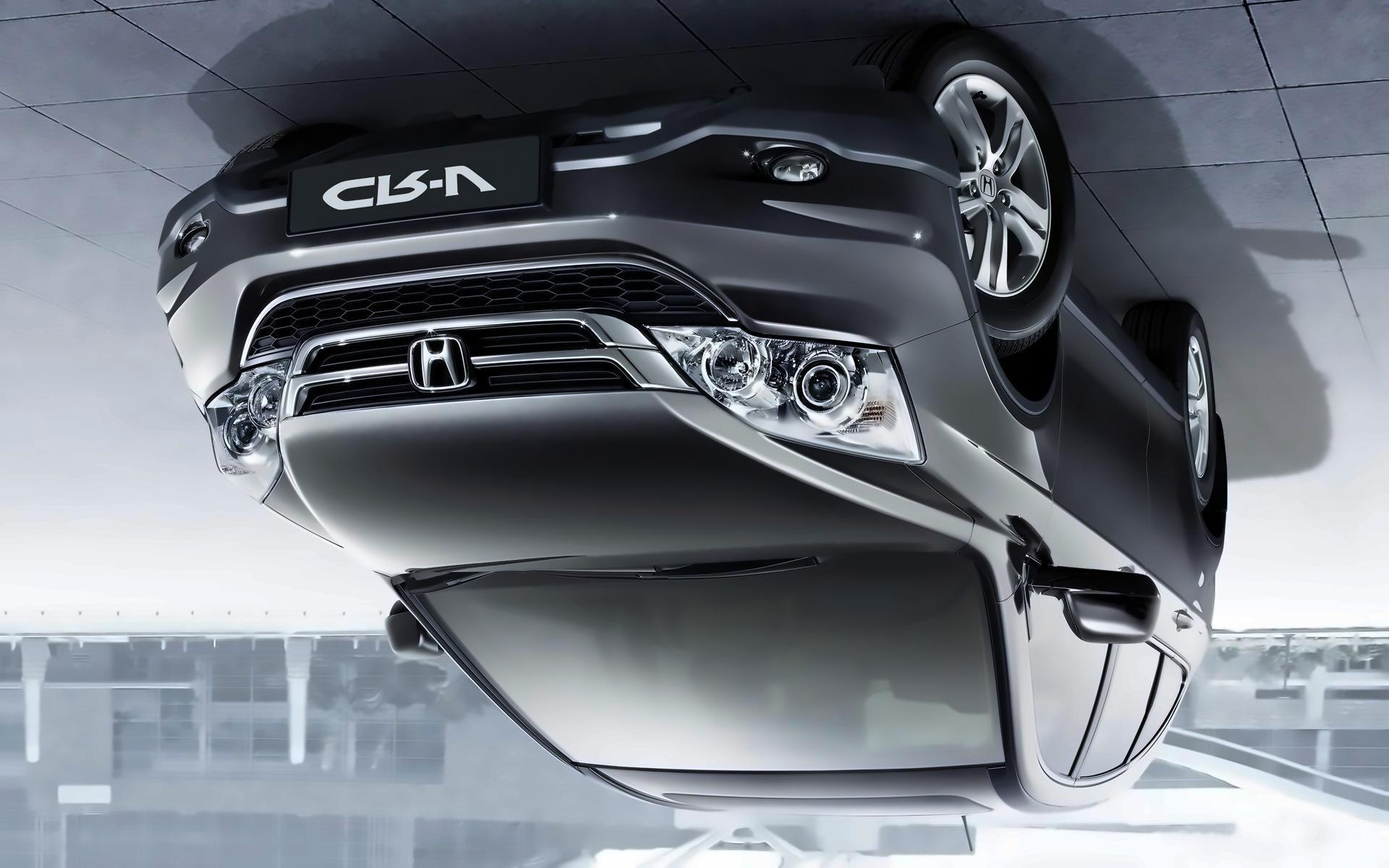Car hood: (263, 389, 985, 570)
Driver-s door - -F-R-: (1014, 256, 1151, 805)
Fender - -F-R-: (890, 190, 1067, 601)
Front bumper: (145, 99, 977, 403)
Headlight - -L-: (203, 352, 297, 477)
Headlight - -R-: (645, 317, 927, 467)
Passenger-s door - -R-R-: (1078, 335, 1208, 814)
Side bumper - -R-: (1052, 265, 1197, 440)
Side mirror - -R-: (1026, 534, 1160, 644)
